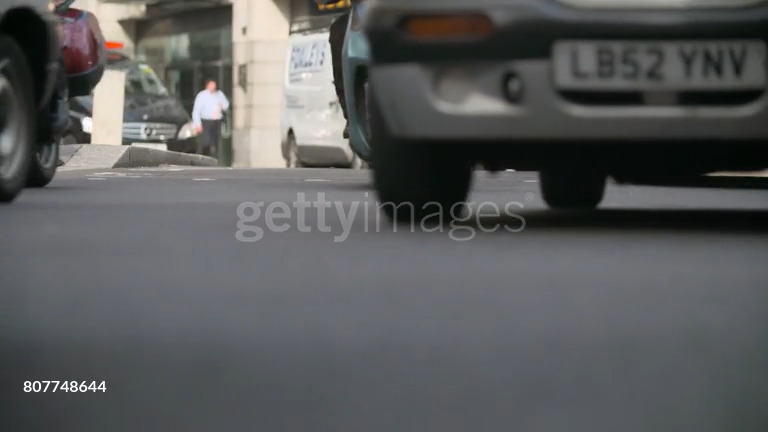car number: (552, 38, 761, 90)
